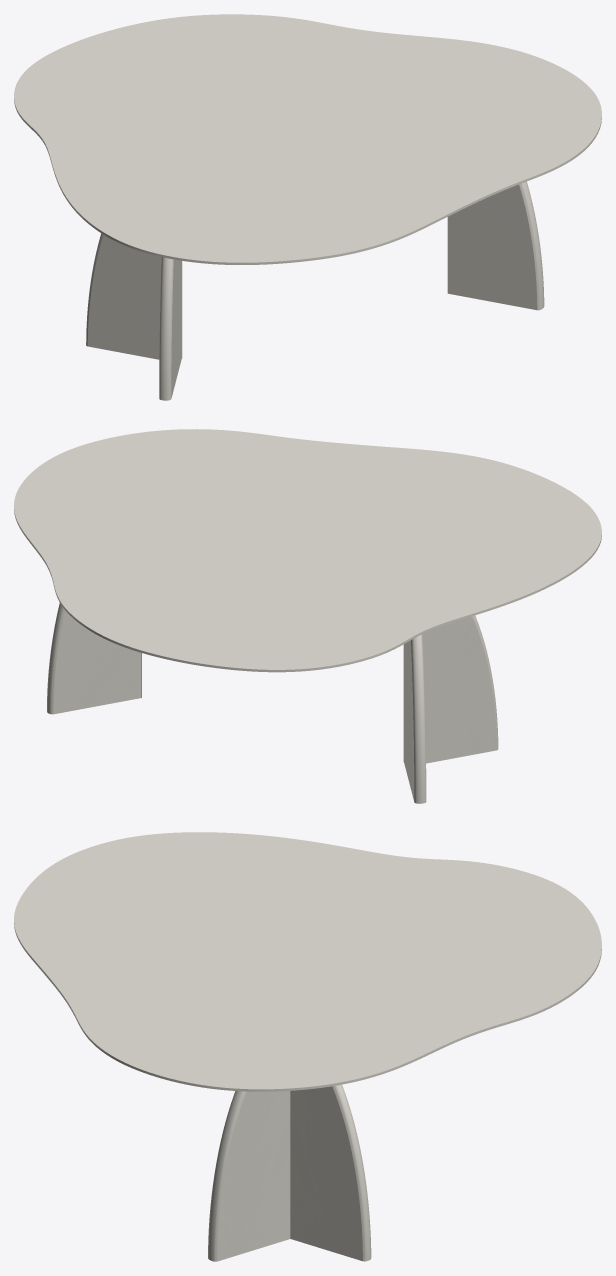
File: pale_topone_facet_newtable2.glb
The picture shows the model from 3 angles, top to bottom: view 1: azimuth 30°, elevation 25°; view 2: azimuth 150°, elevation 25°; view 3: azimuth 270°, elevation 25°; orthographic projection. The views are drawn at different scales.
Visible parts, largest first — view 1: facet_topone, newtable2_singleright2, newtable2_singleleft1, newtable2_singleright1; view 2: facet_topone, newtable2_singleright1, newtable2_singleleft2, newtable2_singleleft1; view 3: facet_topone, newtable2_singleright2, newtable2_singleleft2.
Boxes of the visible parts, x1=… form: facet_topone: x1=14, y1=14, x2=601, y2=264; newtable2_singleright2: x1=447, y1=181, x2=544, y2=310; newtable2_singleleft1: x1=86, y1=233, x2=182, y2=359; newtable2_singleright1: x1=159, y1=257, x2=181, y2=400; facet_topone: x1=14, y1=429, x2=601, y2=672; newtable2_singleright1: x1=403, y1=615, x2=498, y2=763; newtable2_singleleft2: x1=47, y1=603, x2=141, y2=714; newtable2_singleleft1: x1=404, y1=634, x2=426, y2=803; facet_topone: x1=14, y1=832, x2=601, y2=1091; newtable2_singleright2: x1=208, y1=1091, x2=290, y2=1261; newtable2_singleleft2: x1=290, y1=1084, x2=371, y2=1261.
Bounding box in the file's own units: 6.83 × 2.49 × 6.6.
Materials: 1 (1 with a texture image).
